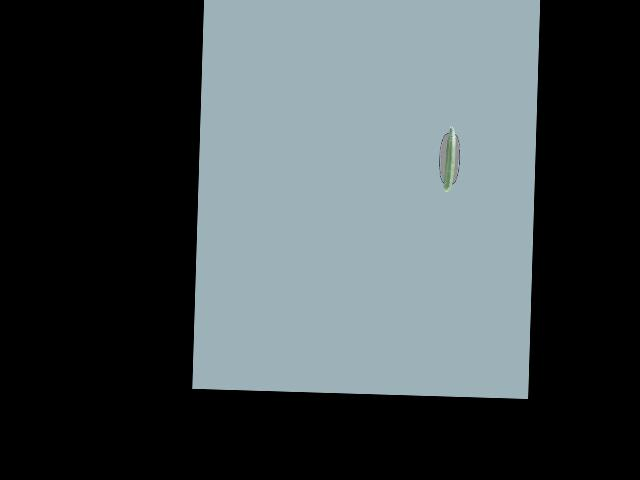cucumber: (443, 125, 455, 192)
